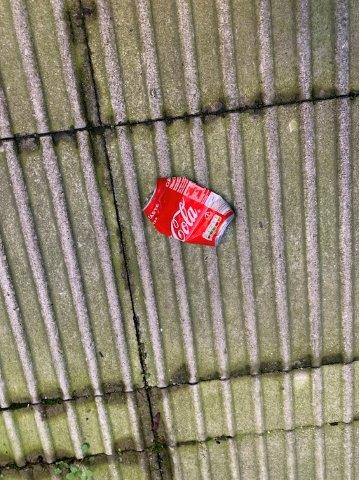kaleng: (144, 177, 235, 246)
